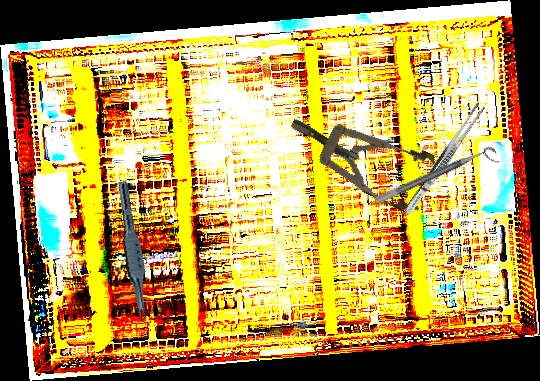Dressing Forceps: (400, 100, 487, 219)
Fixation Ring: (373, 144, 501, 215)
Speculum: (278, 93, 447, 219)
Tissue Forceps: (109, 180, 156, 327)
